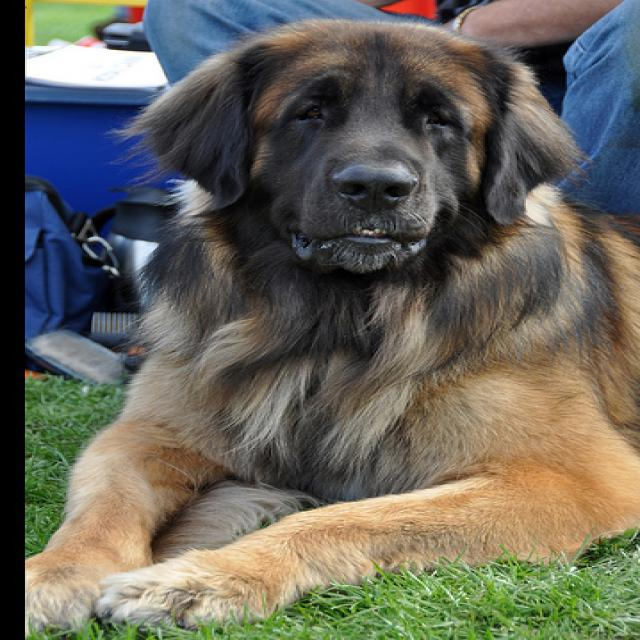dog-leonberger: (2, 6, 636, 637)
